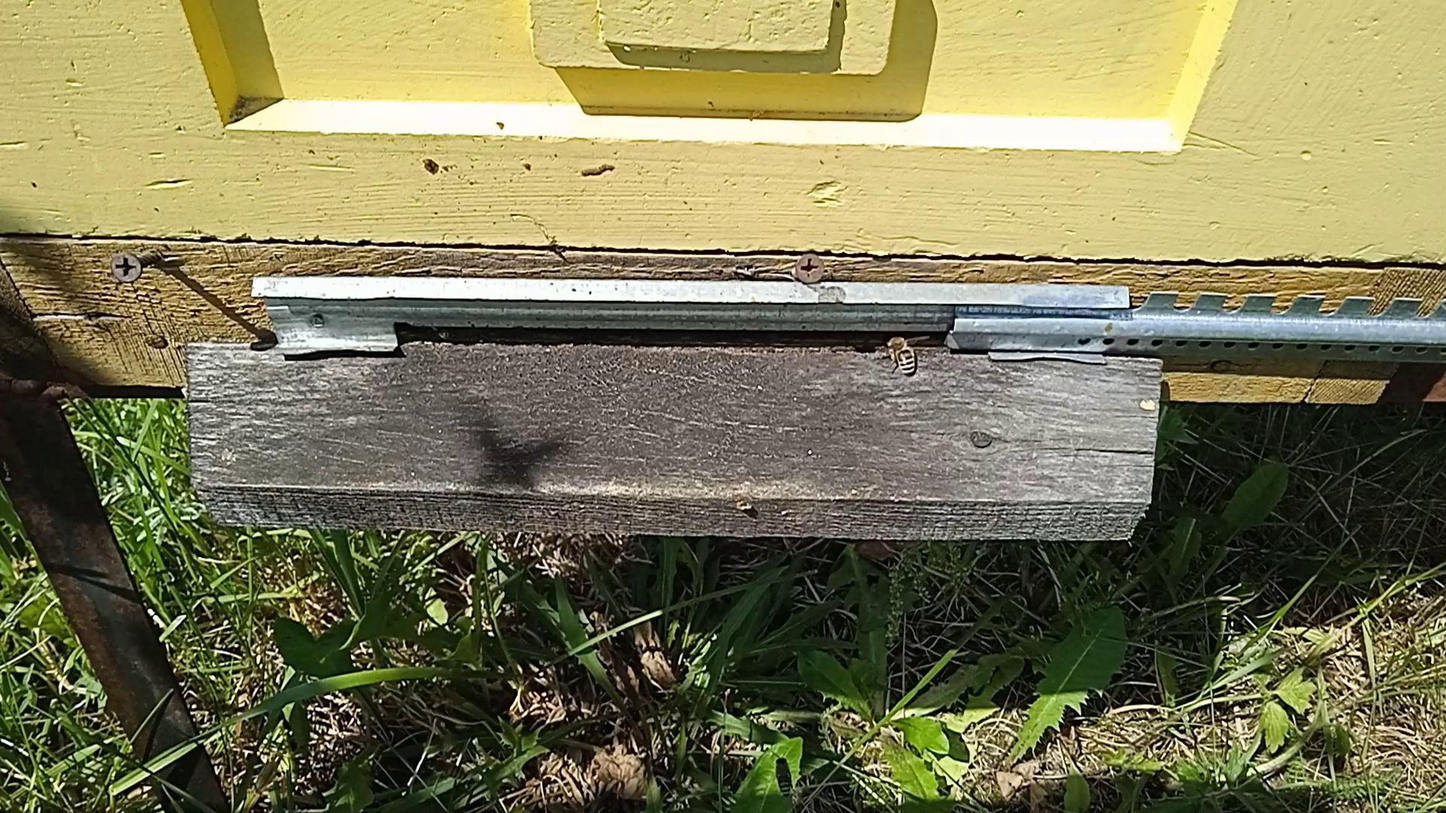worker-bee: (882, 333, 919, 376)
